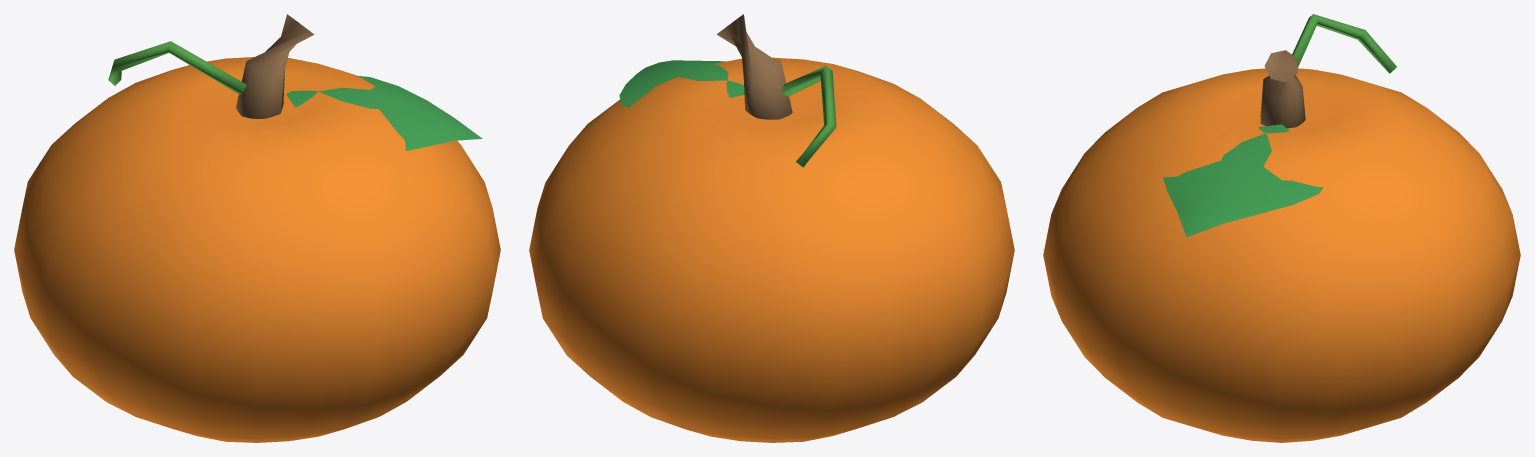
Rendered from abobora.glb.
3 renders of one model, left to right at view 1: azimuth 30°, elevation 25°; view 2: azimuth 150°, elevation 25°; view 3: azimuth 270°, elevation 25°, orthographic. The views are drawn at different scales.
Visible parts, largest first — view 1: abobora; view 2: abobora; view 3: abobora.
Boxes of the visible parts, x1,y1,x2,y2 form: abobora: (14, 14, 500, 442); abobora: (529, 14, 1014, 442); abobora: (1043, 14, 1520, 442).
Size of the model in its own units: 0.3 by 0.256 by 0.3.
